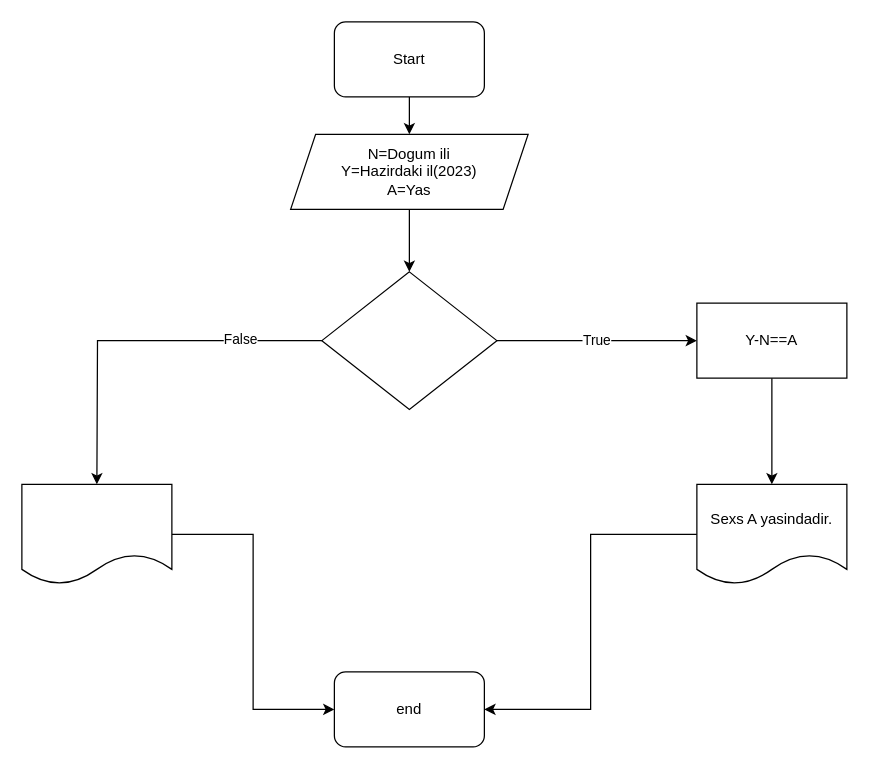
This 869x769 diagram has some shape labels left out. The box of each missing label's shape, as (x1, y1, x2, y2) in pixels:
Dogum iliniz hazirdaki ilden boyuk ola bilmez: (21, 483, 172, 584)
N<Y: (321, 271, 497, 409)
